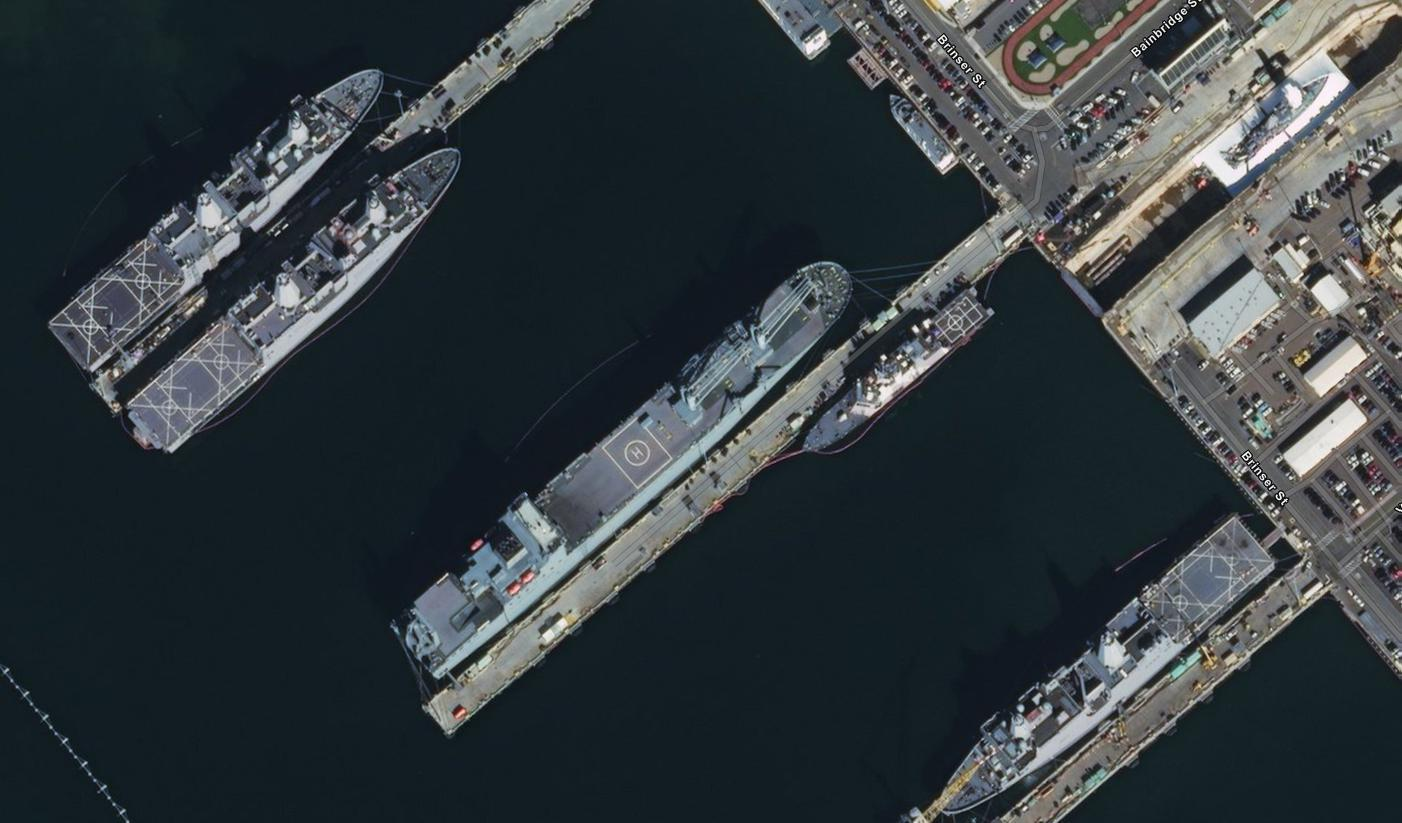amphiby: (121, 142, 464, 458), (42, 67, 389, 374), (935, 512, 1279, 816)
patrol: (799, 283, 997, 459)
tender: (395, 258, 856, 684)
